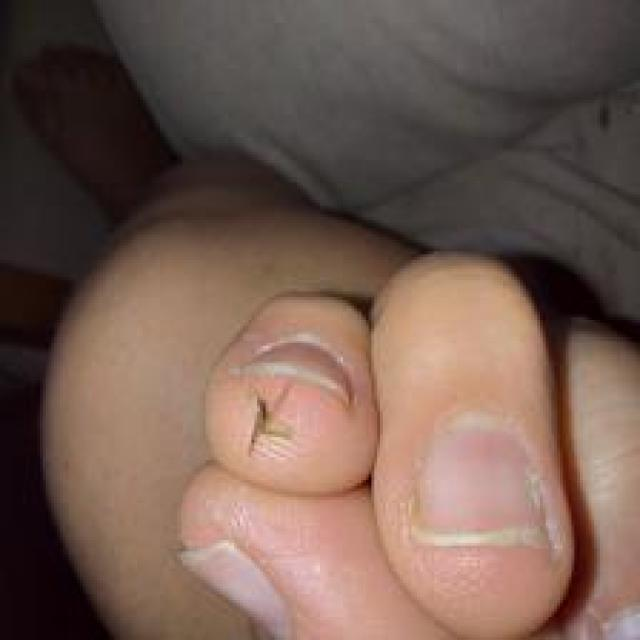Culex: (247, 396, 296, 456)
